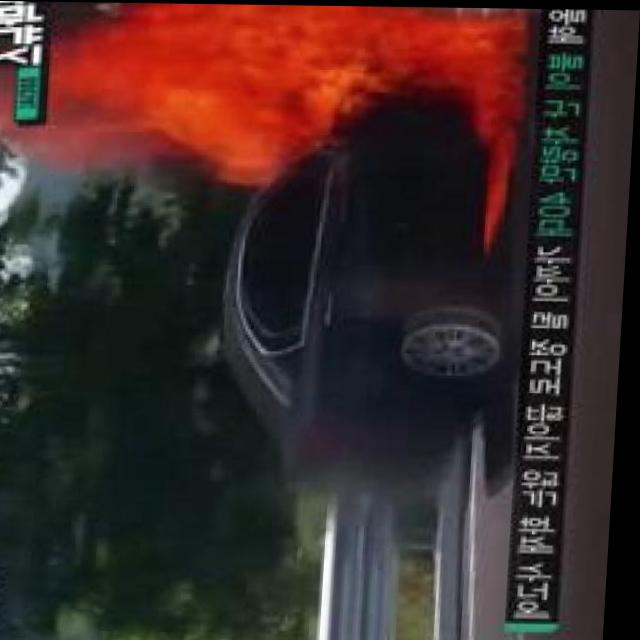Fire: (77, 1, 531, 150)
